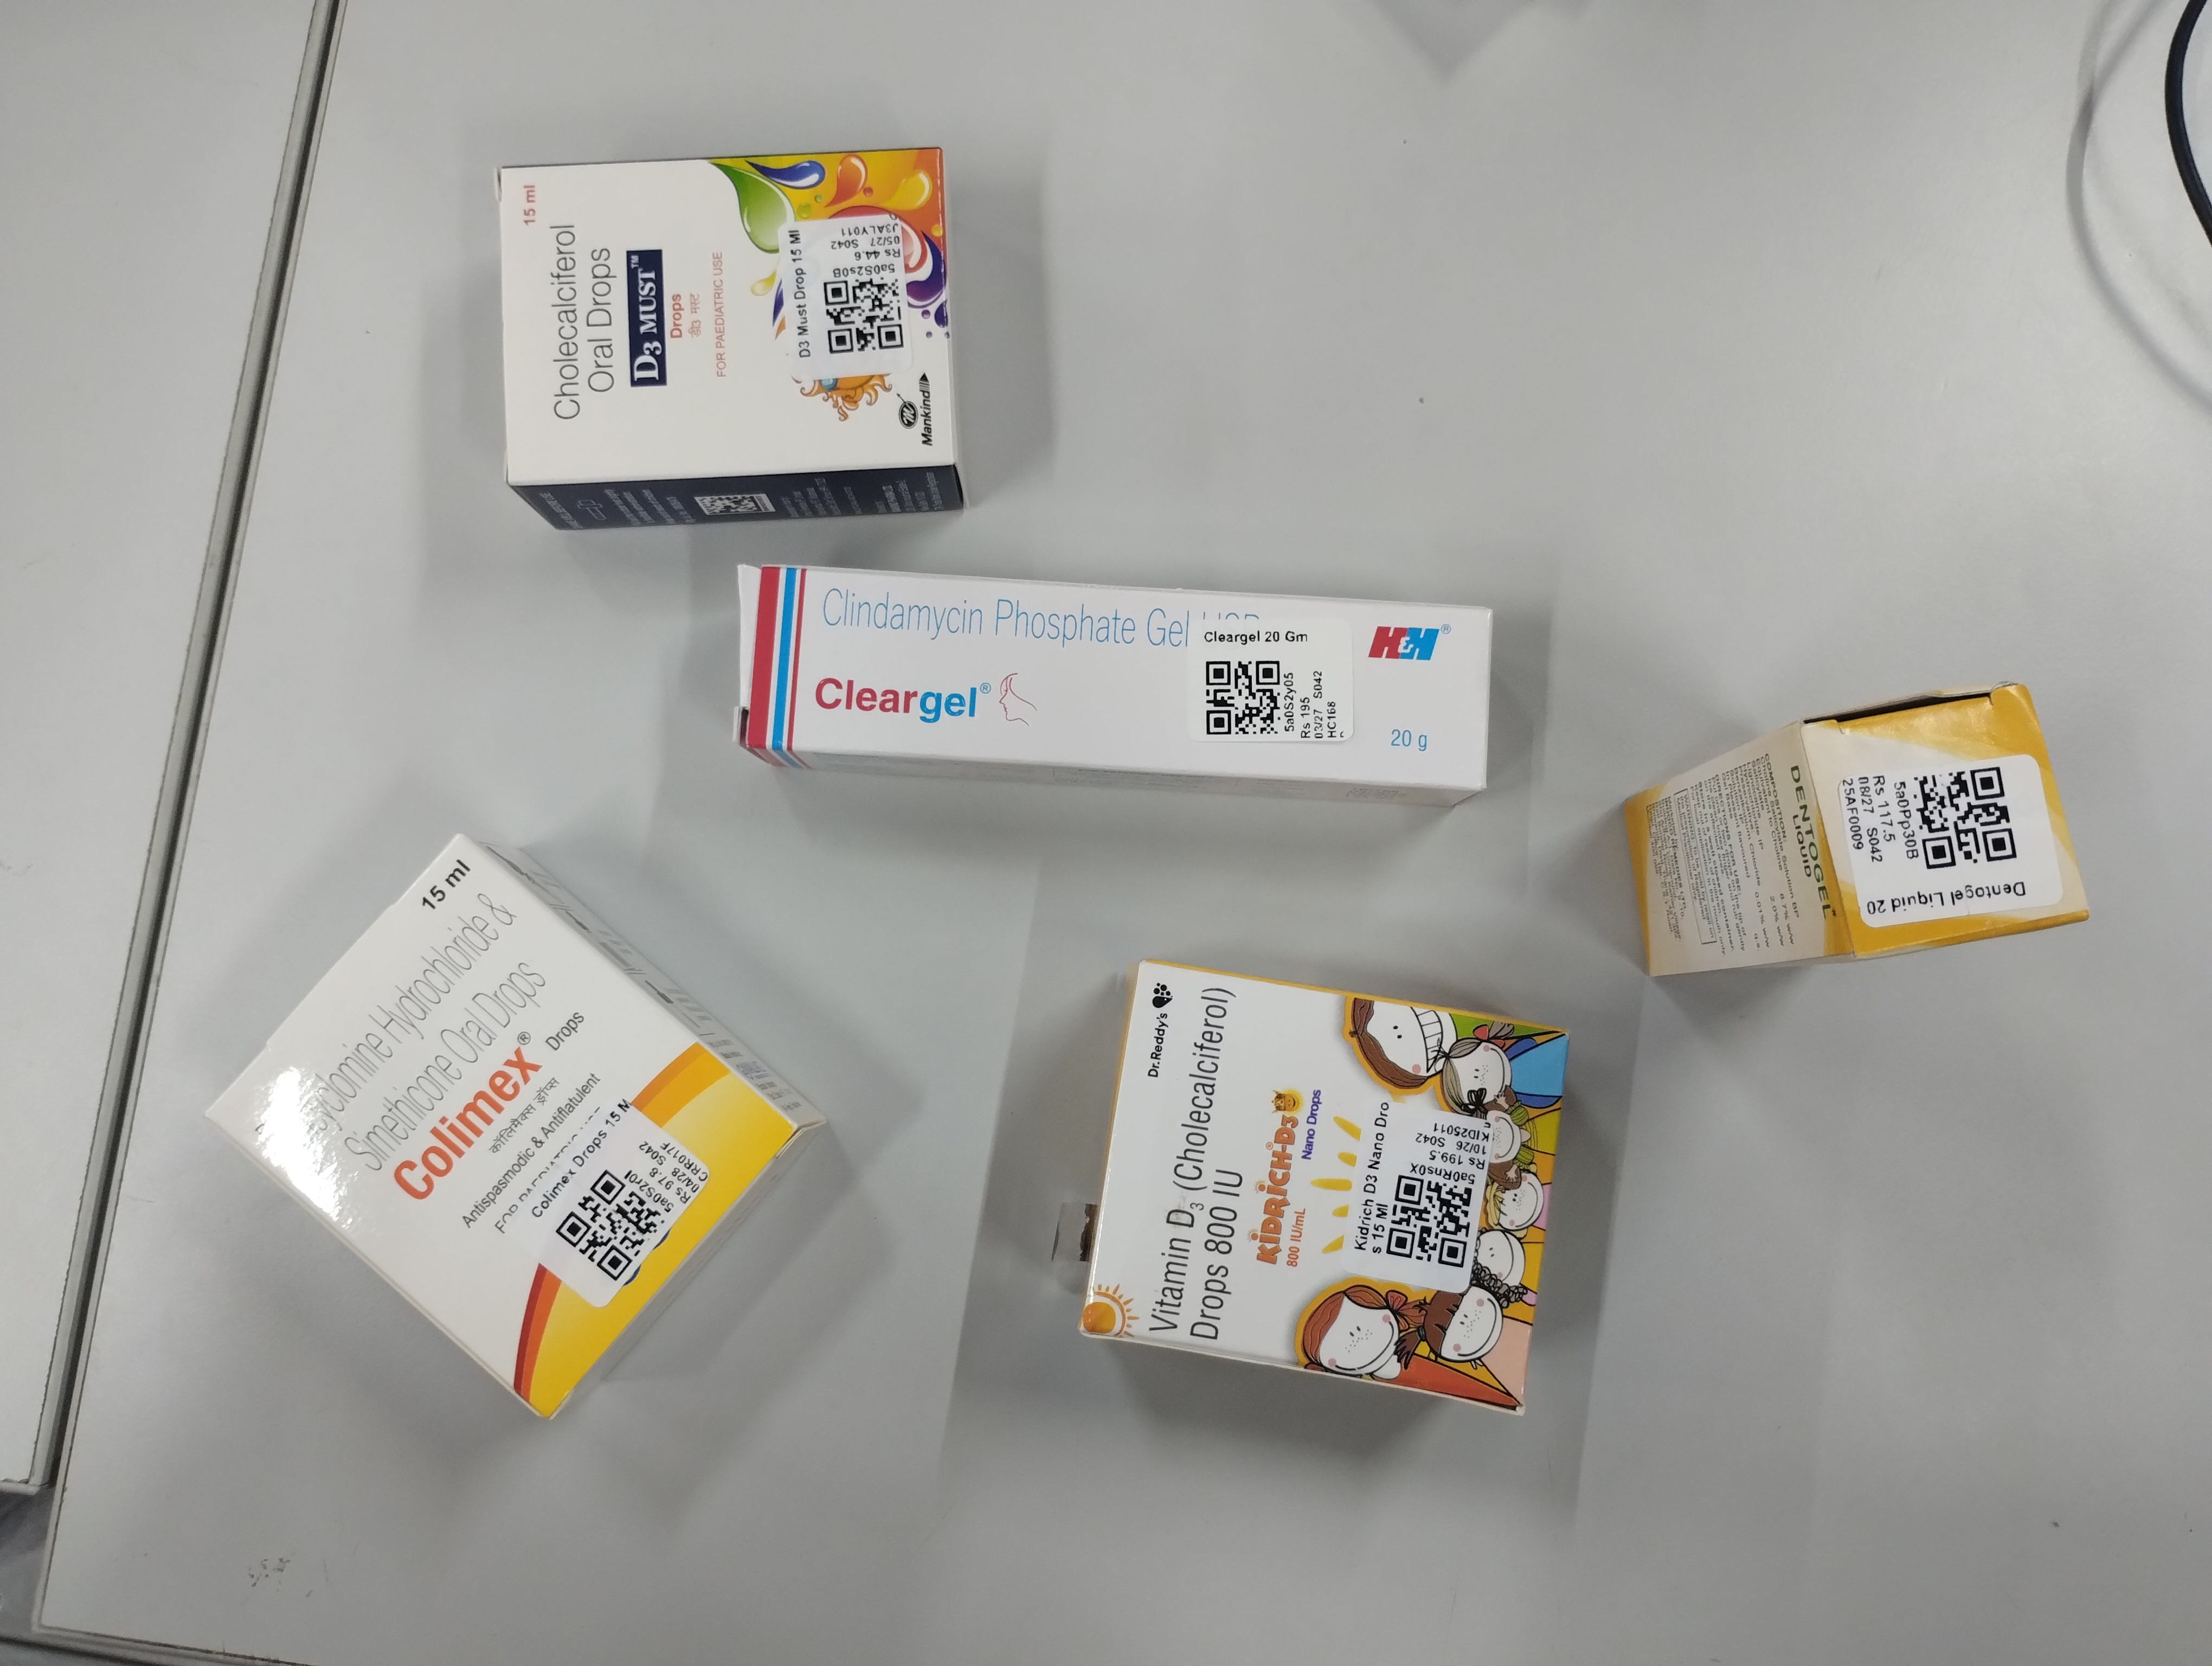QR: (556, 1111, 668, 1225)
